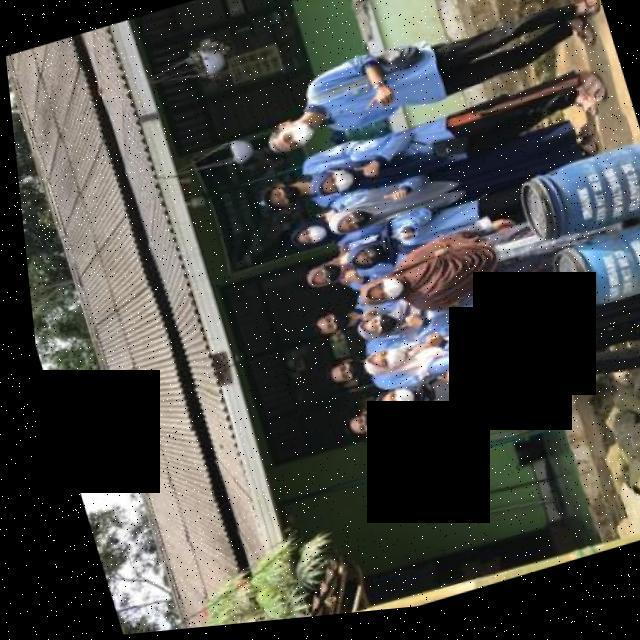bin: (499, 148, 640, 261), (536, 228, 640, 330)
